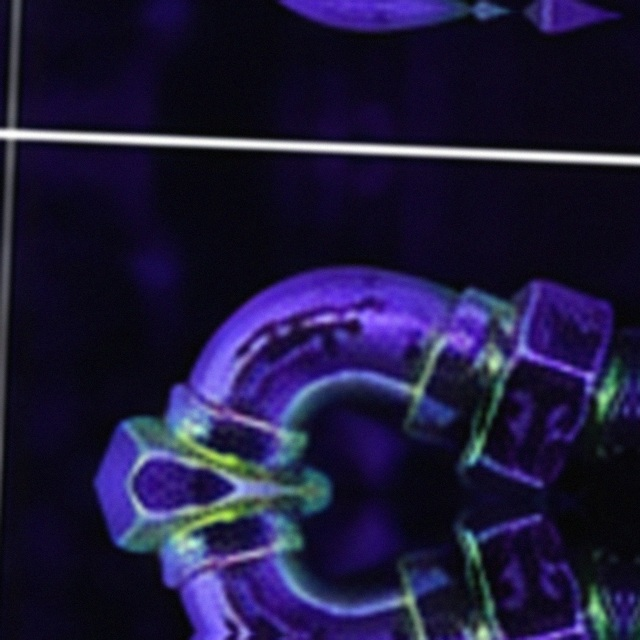hydraulic_oil_leak: (134, 419, 255, 475), (130, 502, 255, 550), (284, 471, 328, 510), (596, 366, 618, 419), (487, 373, 504, 420), (462, 431, 485, 463), (282, 430, 306, 460), (280, 522, 302, 551), (459, 532, 480, 562), (492, 301, 511, 314), (298, 407, 303, 416), (197, 539, 201, 546), (292, 564, 296, 567), (201, 430, 205, 433), (293, 573, 296, 575), (286, 505, 289, 507), (287, 473, 290, 475)
